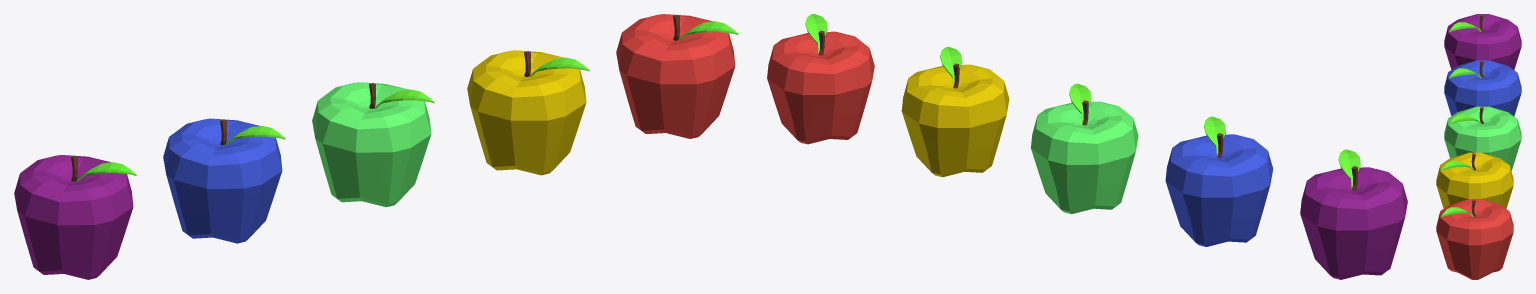
Rendered from Hackrush Apples.fbx.
3 views of the same model, side by side, from view 1: azimuth 30°, elevation 25°; view 2: azimuth 150°, elevation 25°; view 3: azimuth 270°, elevation 25° (orthographic). The views are drawn at different scales.
Parts seen in each view (by area): view 1: Spapple, Gapple, Papple, Apple, Stapple; view 2: Papple, Stapple, Gapple, Apple, Spapple; view 3: Apple, Spapple, Stapple, Gapple, Papple.
Part boxes in pixels (bbox=[...]): Spapple: bbox=[312, 82, 434, 207]; Gapple: bbox=[467, 50, 589, 175]; Papple: bbox=[14, 155, 136, 279]; Apple: bbox=[616, 14, 738, 138]; Stapple: bbox=[163, 118, 285, 243]; Papple: bbox=[1300, 149, 1407, 279]; Stapple: bbox=[1165, 116, 1273, 246]; Gapple: bbox=[901, 47, 1009, 177]; Apple: bbox=[767, 14, 874, 144]; Spapple: bbox=[1031, 83, 1138, 214]; Apple: bbox=[1436, 199, 1513, 279]; Spapple: bbox=[1444, 106, 1521, 170]; Stapple: bbox=[1444, 60, 1521, 116]; Gapple: bbox=[1436, 152, 1513, 208]; Papple: bbox=[1444, 14, 1521, 69].
Bounding box in the file's own units: 6596 × 984 × 1088.
